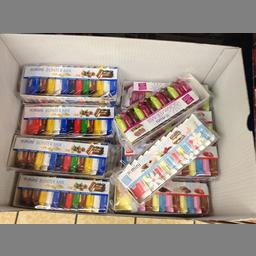chocolate: (116, 116, 214, 202), (114, 75, 201, 144), (5, 133, 112, 176), (9, 172, 112, 214), (16, 63, 120, 103), (18, 101, 114, 136)
